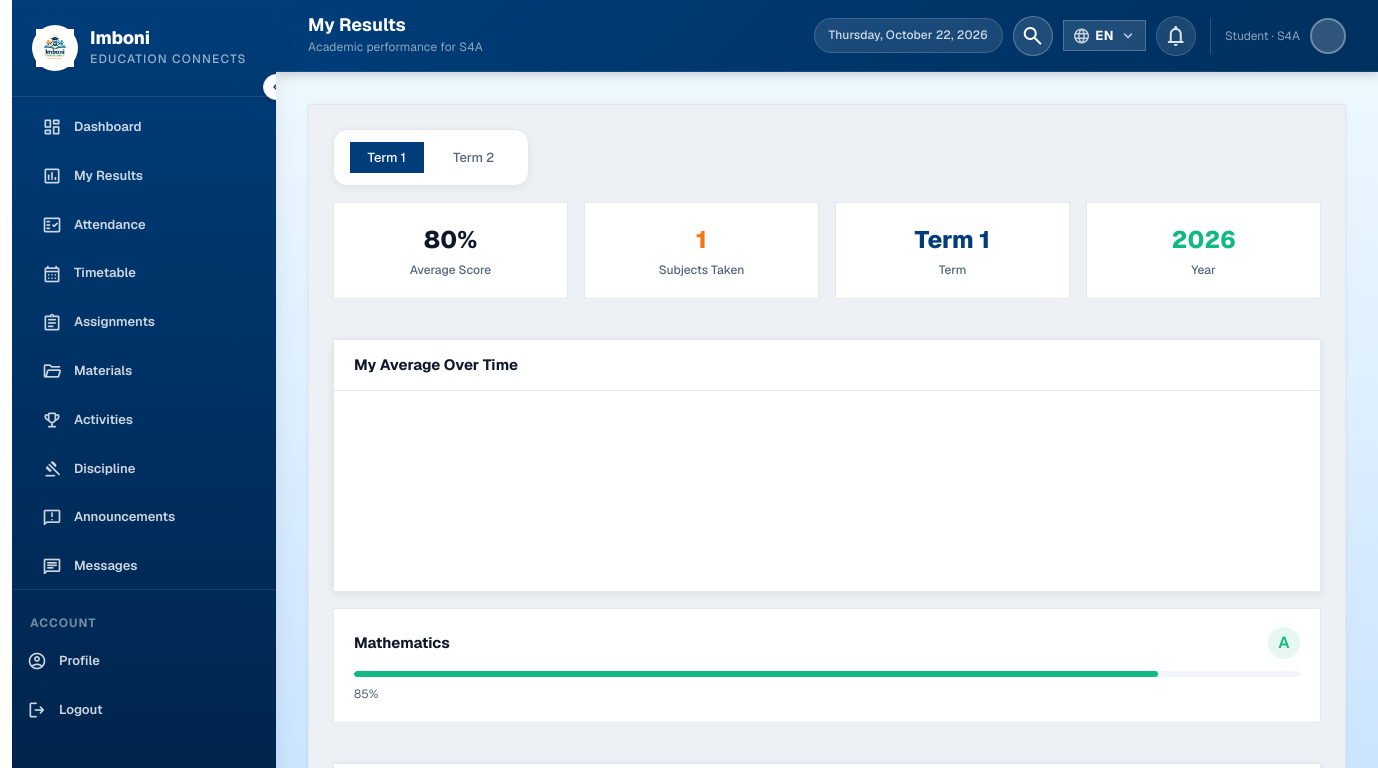
StudentResults › switches term tabs and shows that term's subjects
The width and height of the screenshot is (1378, 768).
Expected: the text "80%" is shown, [424,224,477,255]
Step 1. Click the button "Term 2" → (474, 158), box [436,142,512,173]
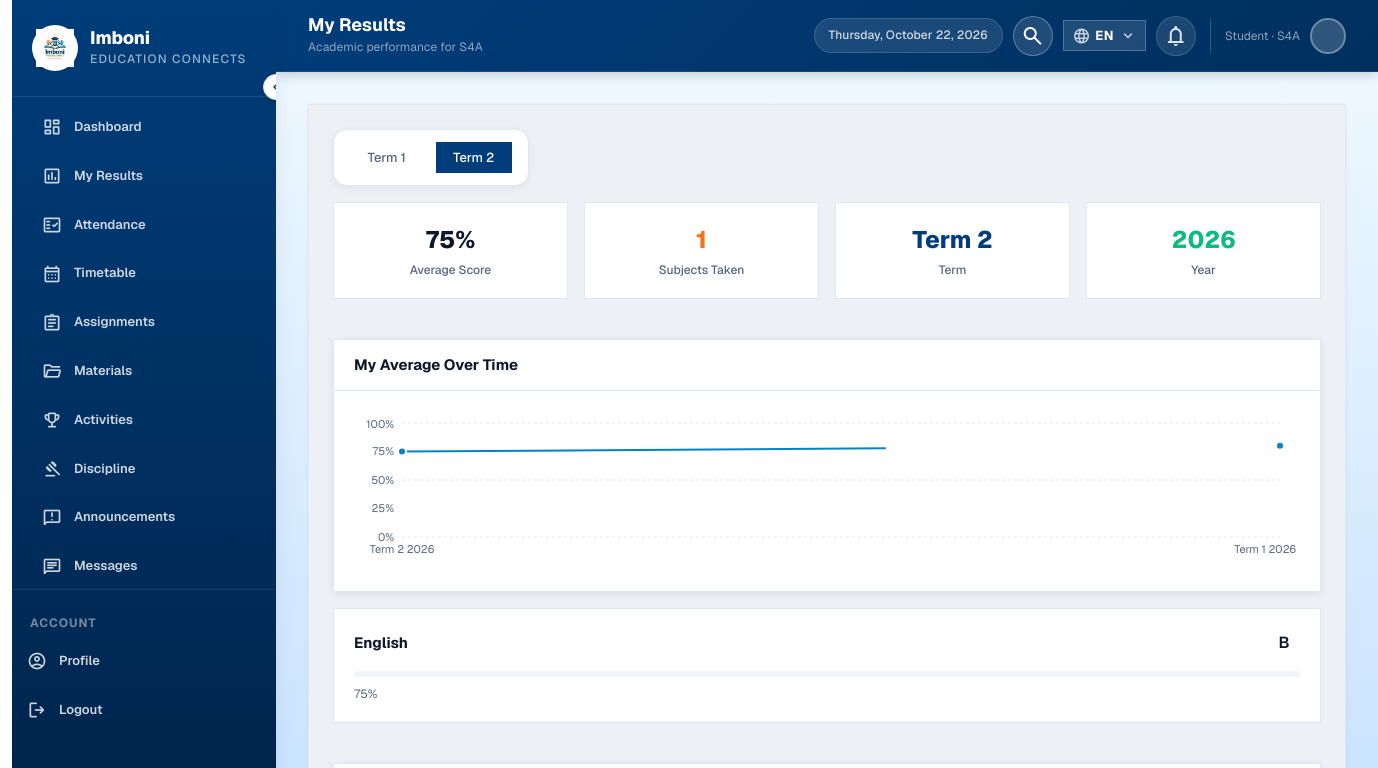
Expected: the 1st text "75%" is shown, [426,224,475,255]
Expected: the text "English" is shown, [354,631,408,655]
